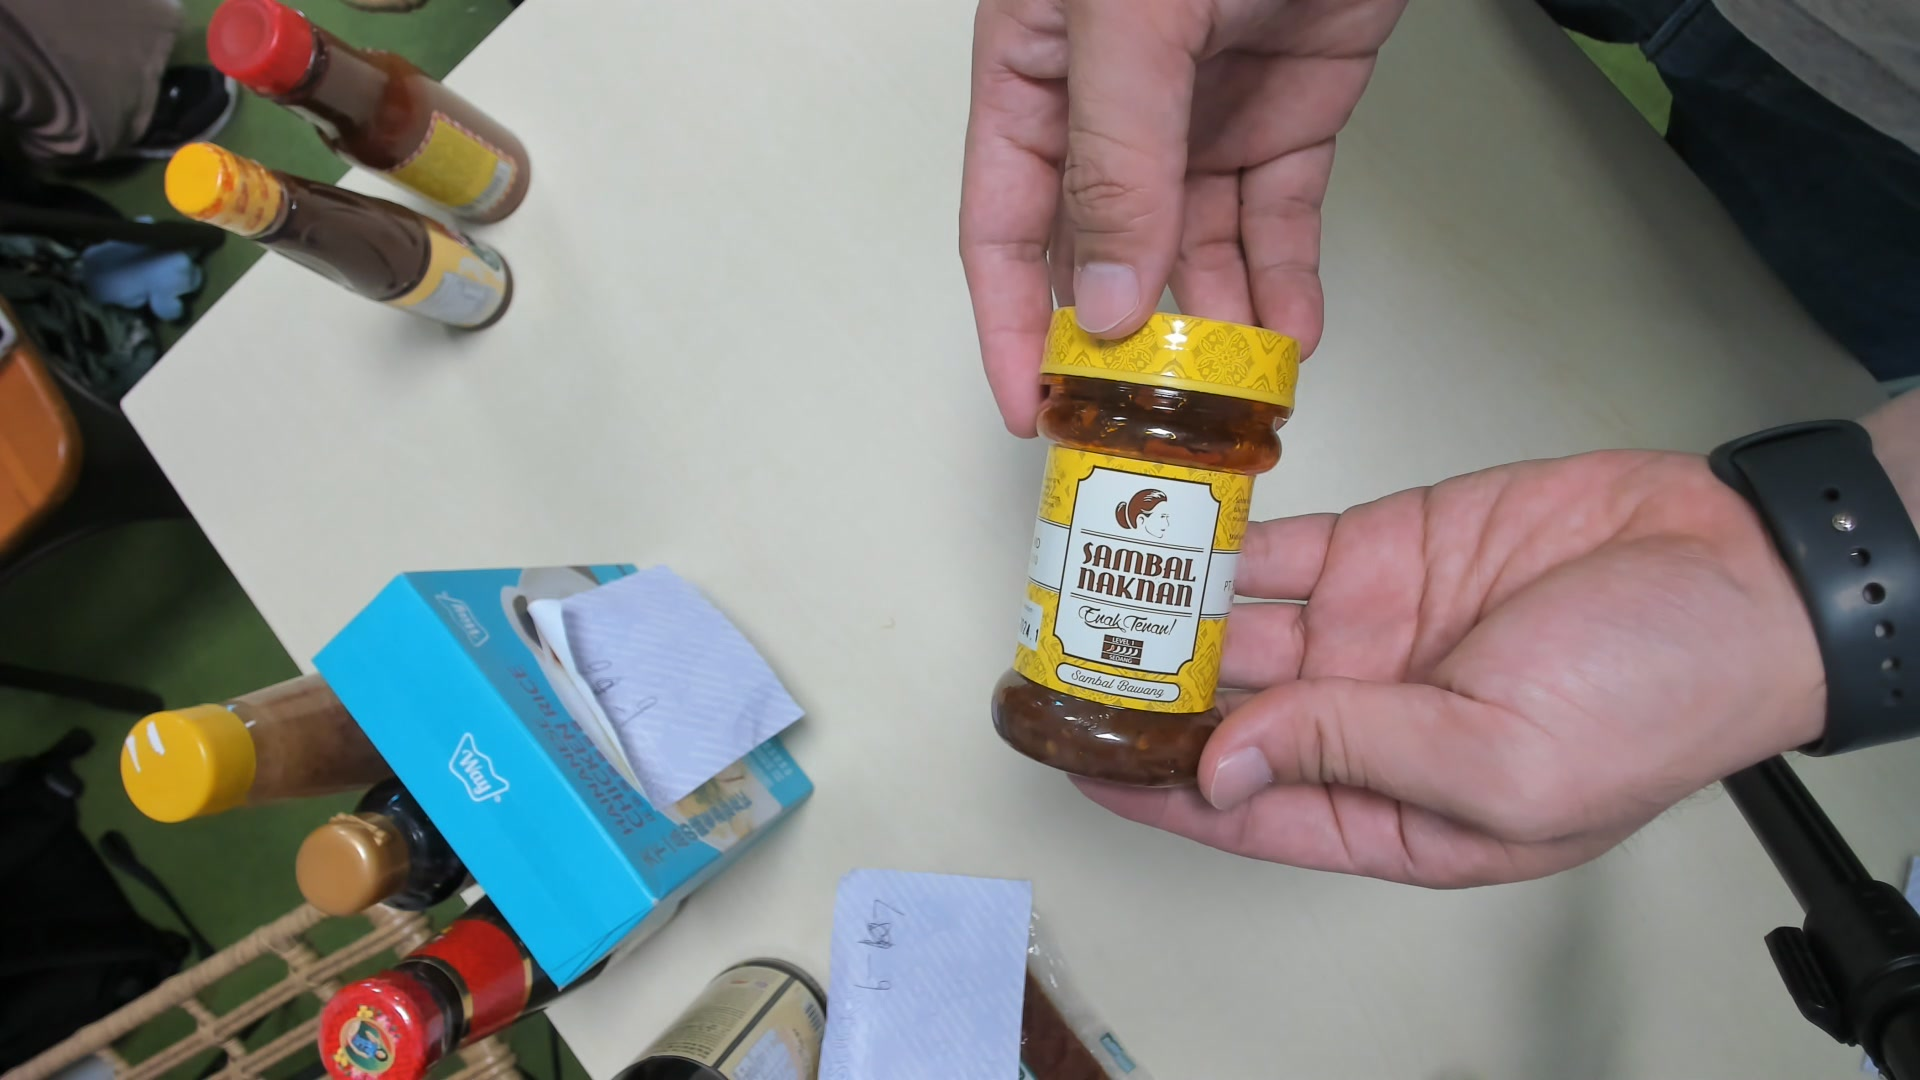KetchupChillSauce_100-199g_Halal_NonHealthy: (988, 294, 1299, 787)
